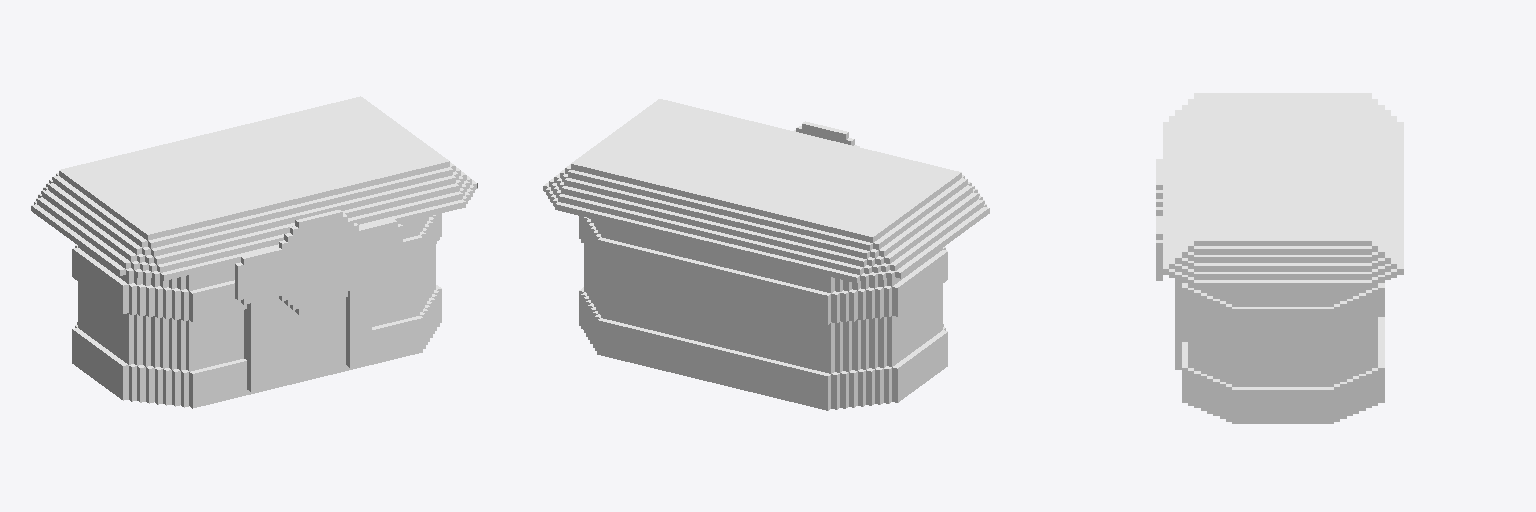
Rendered from poki_center.obj.
3 renders of one model, left to right at view 1: azimuth 30°, elevation 25°; view 2: azimuth 150°, elevation 25°; view 3: azimuth 270°, elevation 25°, orthographic.
Visible parts, largest first — view 1: object 1; view 2: object 1; view 3: object 1.
Part boxes in pixels (x1,y1,x2,y2): object 1: (31,96,477,408); object 1: (543,99,989,410); object 1: (1156,93,1403,423).
Bounding box in the file's own units: 6.5 × 3.1 × 3.9.